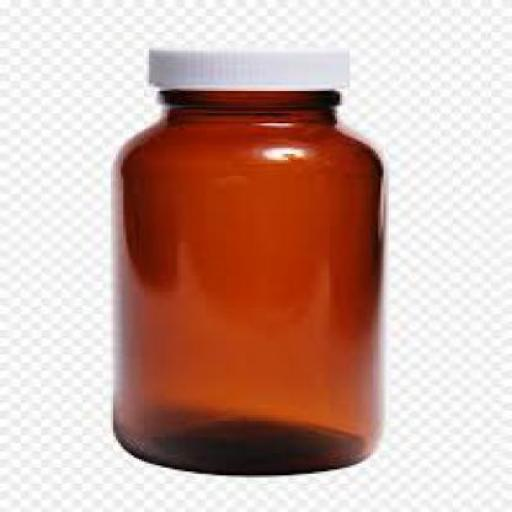glass: (110, 87, 384, 473)
plastic: (146, 47, 344, 91)
